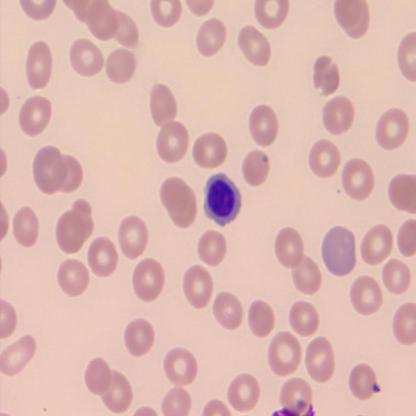NRC: (200, 170, 244, 228)
